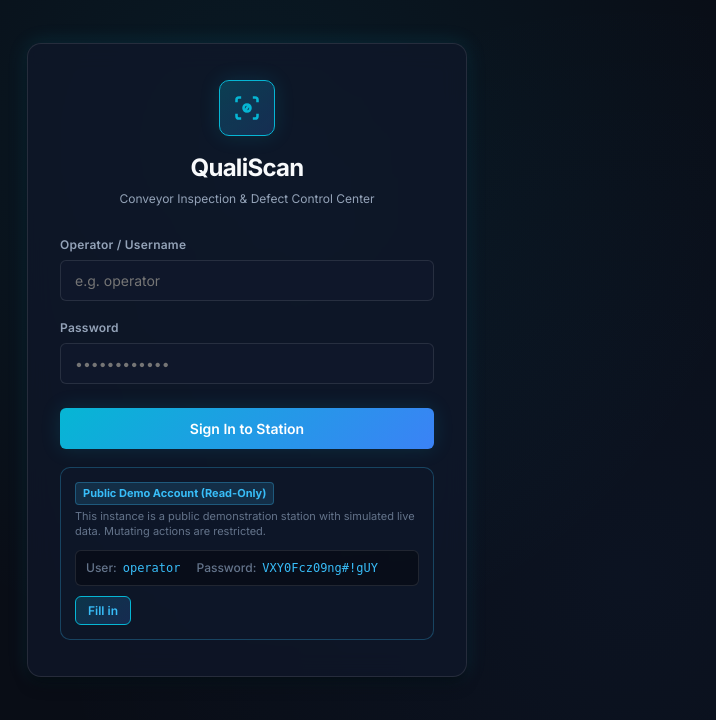
Auth & Route Protection › shows an error message on 401 invalid credentials
This screenshot has width=716, height=720.
Step 1. Type "baduser" into the field labelled "Operator / Username" → coordinates (247, 281), box [60,260,434,301]
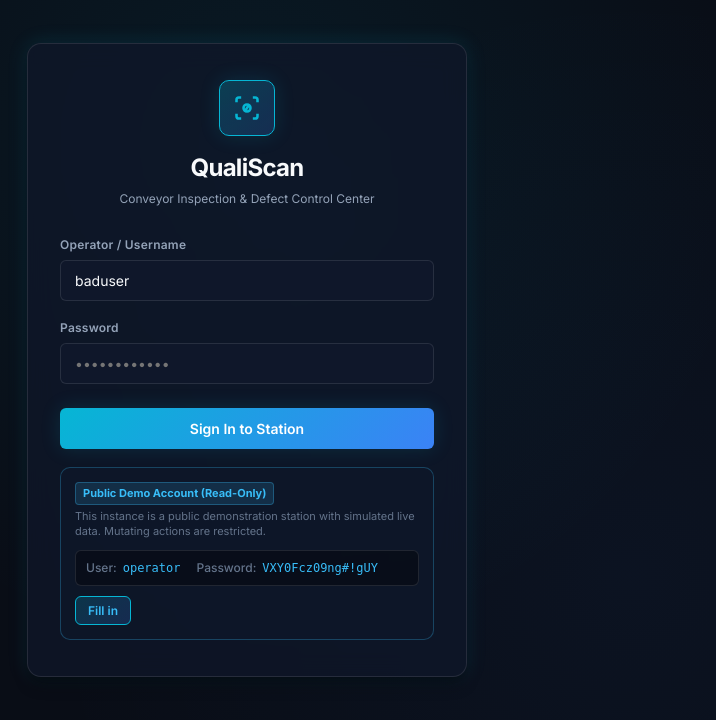
Step 2. Type "wrongpass" into the password field labelled "Password" → coordinates (247, 364), box [60,343,434,384]
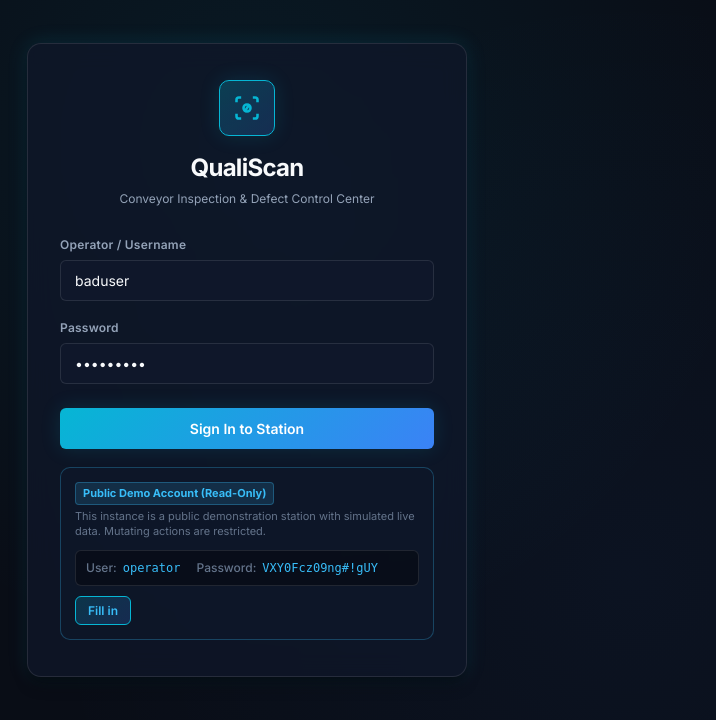
Step 3. Click the button with test id "login-submit-button" → coordinates (247, 429), box [60,408,434,449]
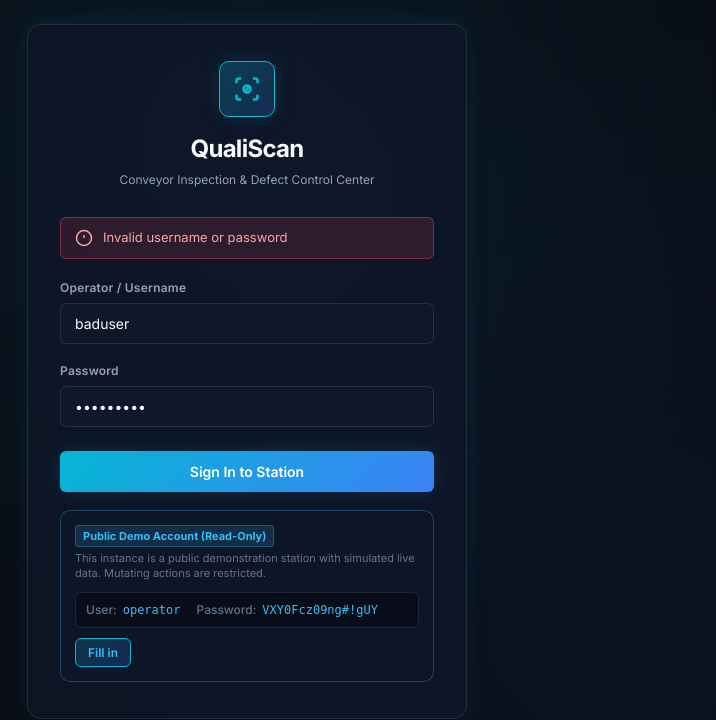
Result: the element with test id "login-error" is shown at [60,217,434,258]
Result: the text "Invalid username or password" is shown at [103,228,288,248]
